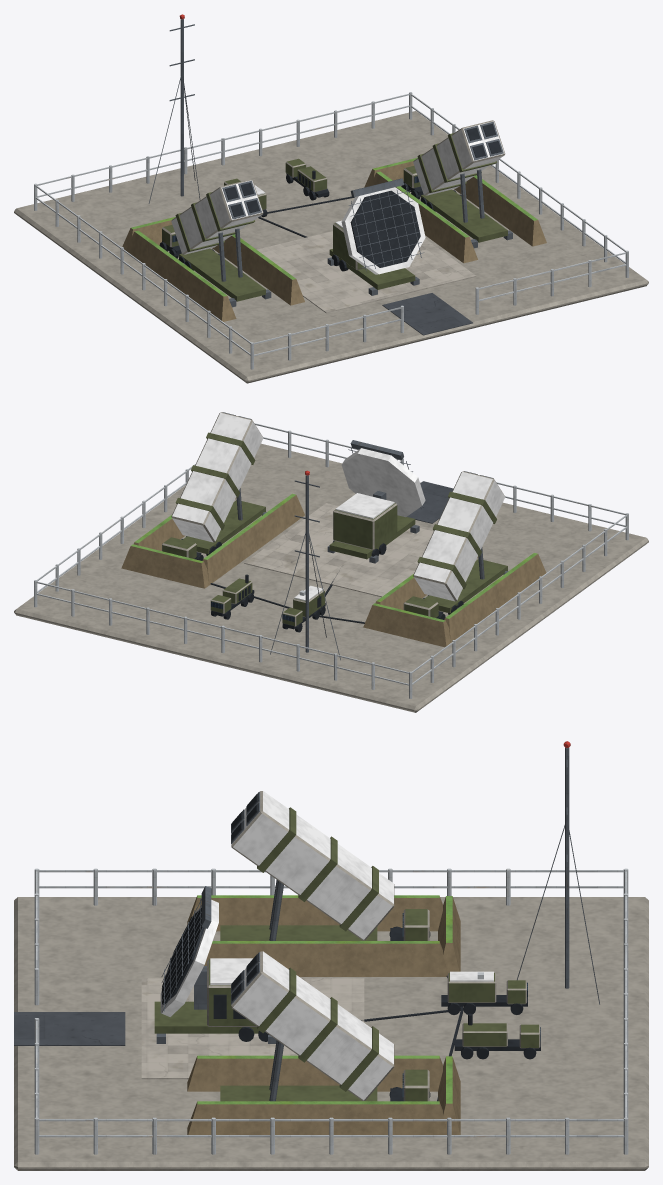
Rendered from sam_launcher.gltf.
3 views of the same model, one above another, from view 1: azimuth 30°, elevation 25°; view 2: azimuth 150°, elevation 25°; view 3: azimuth 270°, elevation 25° (orthographic). The views are drawn at different scales.
Parts seen in each view (by area): view 1: SAMLauncher; view 2: SAMLauncher; view 3: SAMLauncher.
Part boxes in pixels (x1,y1,x2,y2): SAMLauncher: (14,14,648,383); SAMLauncher: (14,412,648,712); SAMLauncher: (14,741,648,1170).
Size of the model in its own units: 0.97 by 0.431 by 0.97.
Materials: 12 (11 with a texture image).
